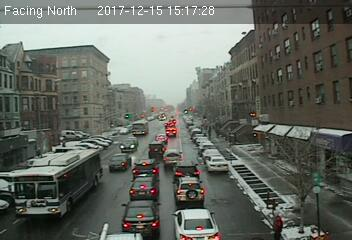bus: (8, 148, 104, 216), (132, 121, 148, 135), (165, 128, 176, 137), (156, 134, 167, 143)
car: (171, 207, 218, 240), (120, 200, 162, 234), (174, 177, 204, 204), (128, 175, 160, 200), (174, 161, 199, 180), (132, 158, 159, 175), (108, 153, 132, 171), (205, 155, 229, 172), (147, 141, 165, 157), (163, 150, 182, 163), (119, 140, 138, 151)
